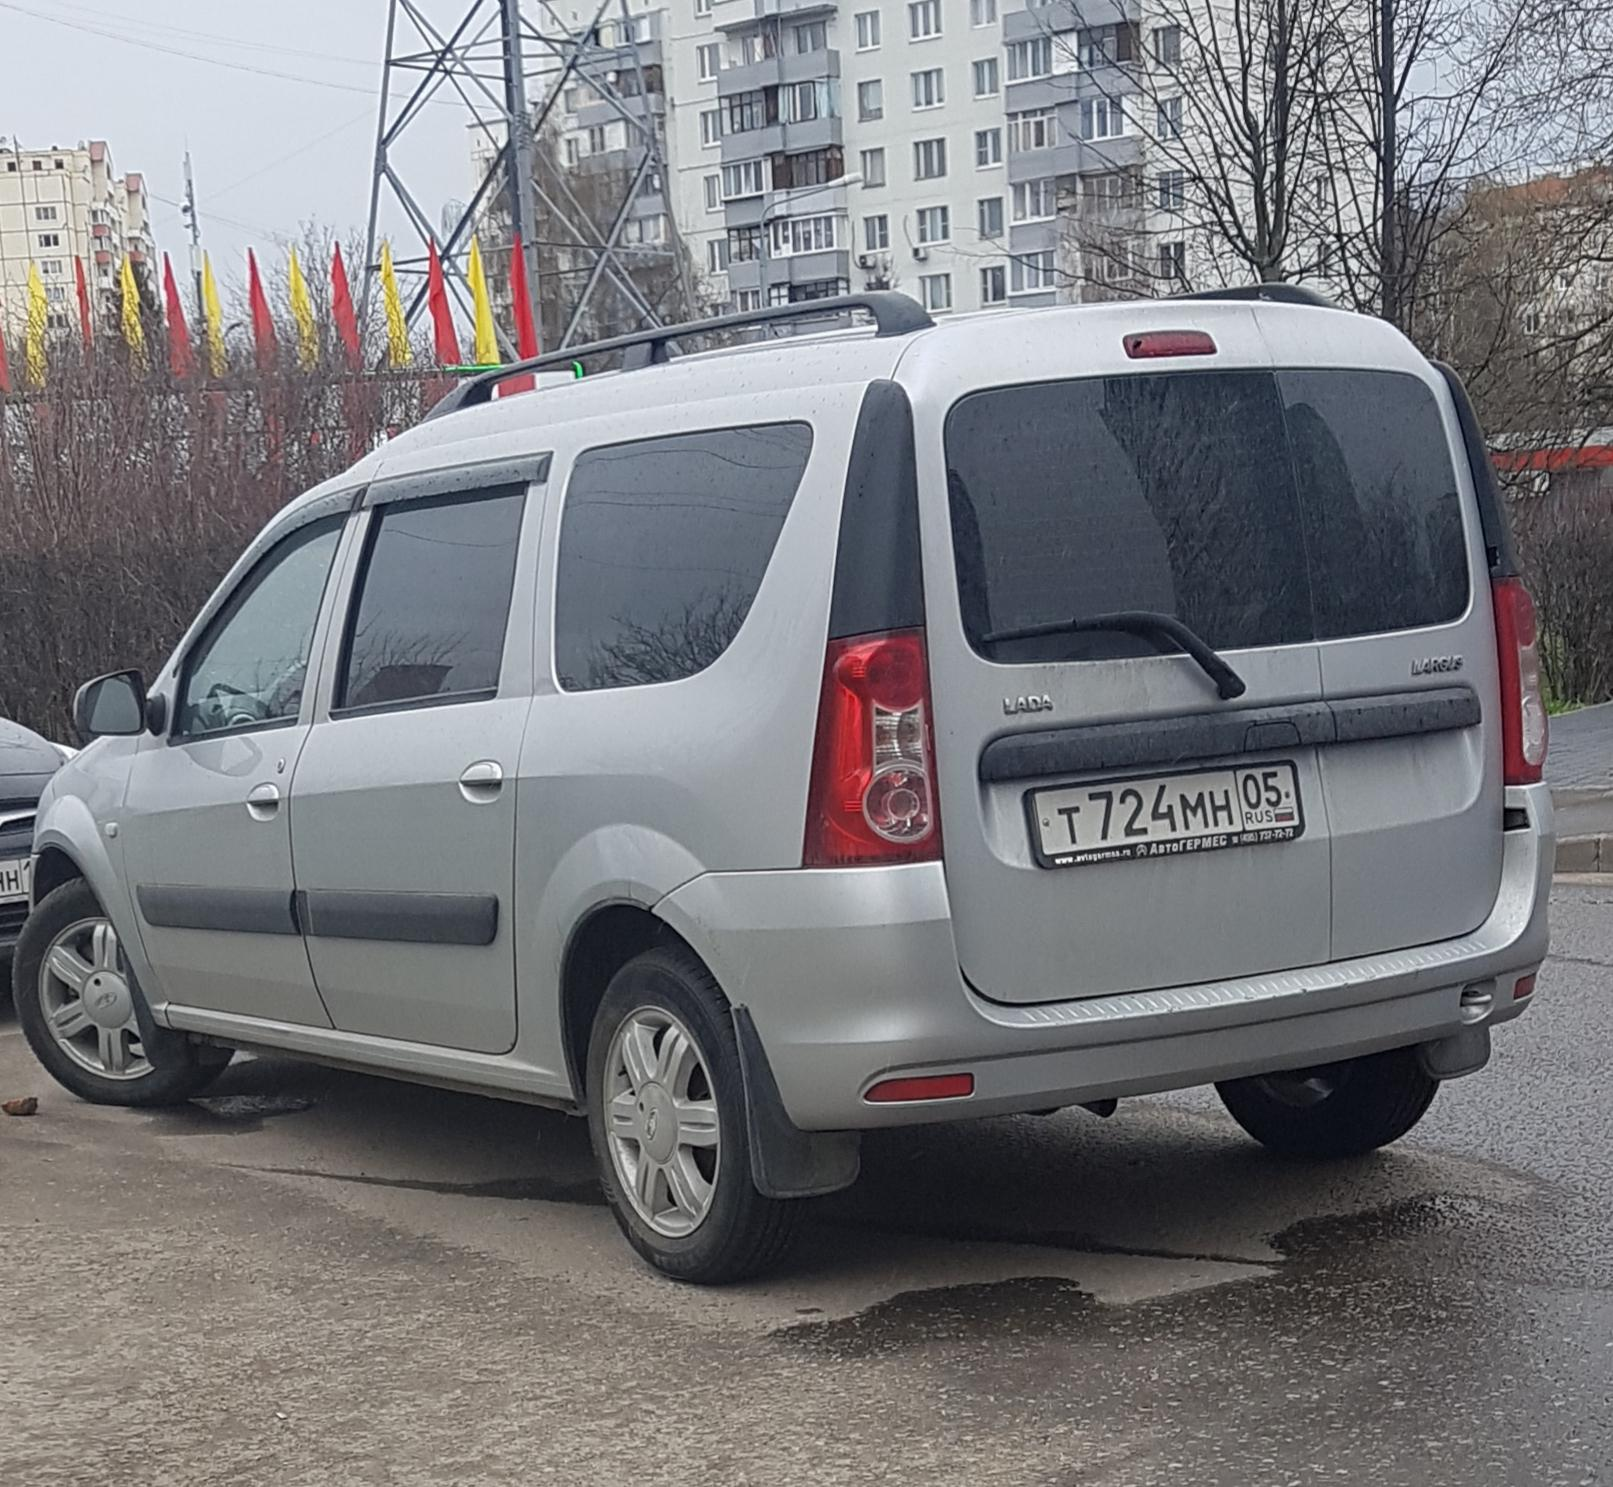license-plateSW: (1034, 767, 1296, 852)
